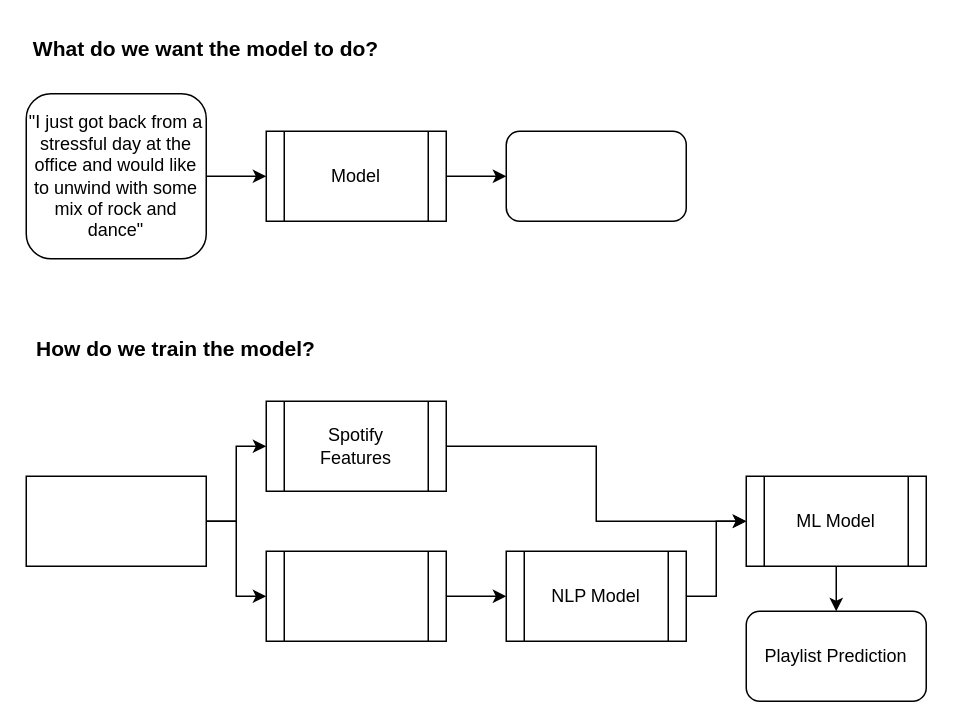
The diagram is 953 pixels wide and 728 high, and some of its shapes have lost their labels. Here are the shapes that lost their labels. From the top down, the centre of each, then its label:
At point 595,175: "Playlist Suggestion".
At point 115,520: "Spotify Dataset".
At point 355,595: "Genius Features".
